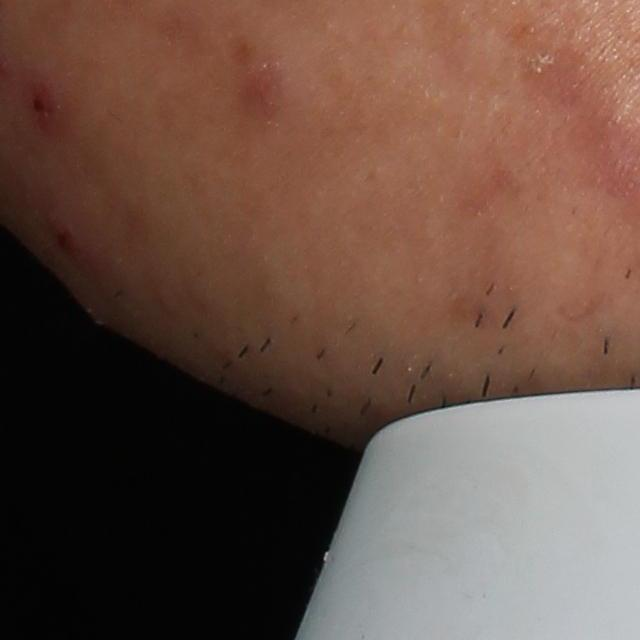papule: (234, 41, 291, 115), (21, 83, 57, 135), (43, 215, 82, 256)
